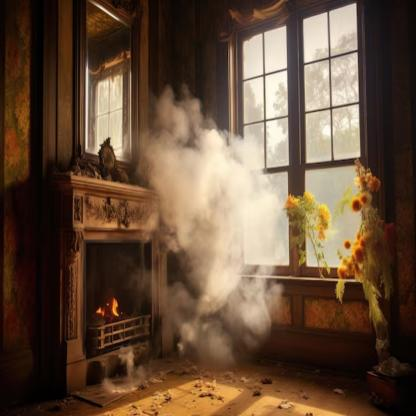smoke: (134, 82, 288, 367)
